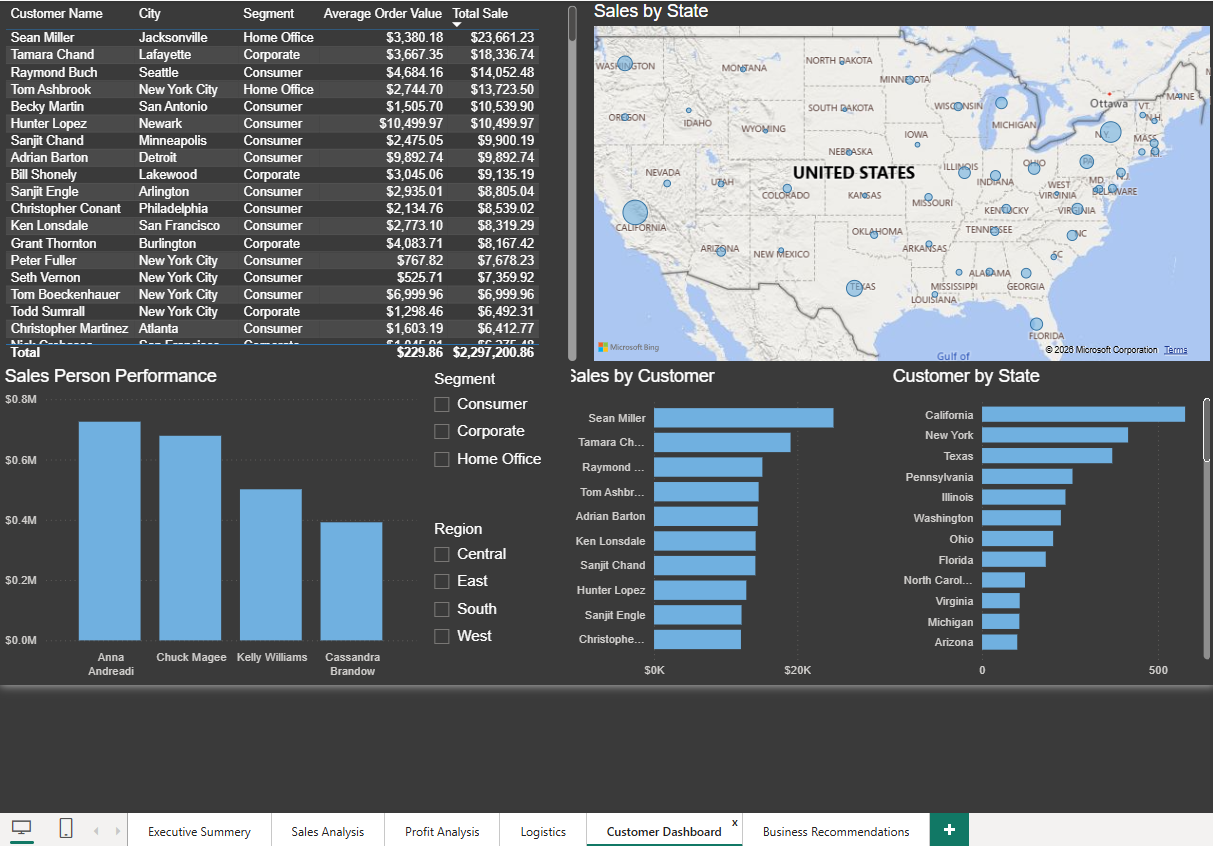

The page's visual inventory and layout, read from the dashboard file:
{"tool":"powerbi","page":{"name":"Customer Dashboard","canvas":[1280,720],"ordinal":4},"visuals":[{"type":"tableEx","fields":{"Values":["FactOrders.Customer Name","FactOrders.City","FactOrders.Segment","_Measures.Average Order Value","_Measures.Total Sale"]},"box":[0,0,611.6,384.2],"z":0},{"type":"clusteredBarChart","title":"Sales by Customer","fields":{"Category":["FactOrders.Customer Name"],"Y":["_Measures.Total Sale"]},"box":[589.5,384.2,345.3,335.8],"z":1},{"type":"map","title":"Sales by State","fields":{"Category":["FactOrders.State"],"Size":["_Measures.Total Sale"]},"box":[620,0,660,384.2],"z":2},{"type":"clusteredBarChart","title":"Customer by State","fields":{"Y":["Count(FactOrders.Customer ID)"],"Category":["FactOrders.State"]},"box":[934.7,384.2,345.3,335.8],"z":3},{"type":"slicer","fields":{"Values":["FactOrders.Segment"]},"box":[444.2,384.2,156.8,157.9],"z":4},{"type":"slicer","fields":{"Values":["FactOrders.Region"]},"box":[444.2,542.1,156.8,177.9],"z":5},{"type":"clusteredColumnChart","title":"Sales Person Performance","fields":{"Category":["FactOrders.SalesPerson"],"Y":["_Measures.Total Sale"]},"box":[0,384.2,444.2,335.8],"z":6}]}

Visuals, with their boxes on the page's 1280x720 design canvas (x1, y1, x2, y2). These are canvas units, not pixel positions in the 1213x846 screenshot, which may show the page scaled, cropped or inside an application window:
tableEx - FactOrders.Customer Name x FactOrders.City: box=[0, 0, 612, 384]
"Sales by Customer" clusteredBarChart: box=[590, 384, 935, 720]
"Sales by State" map: box=[620, 0, 1280, 384]
"Customer by State" clusteredBarChart: box=[935, 384, 1280, 720]
slicer - FactOrders.Segment: box=[444, 384, 601, 542]
slicer - FactOrders.Region: box=[444, 542, 601, 720]
"Sales Person Performance" clusteredColumnChart: box=[0, 384, 444, 720]
